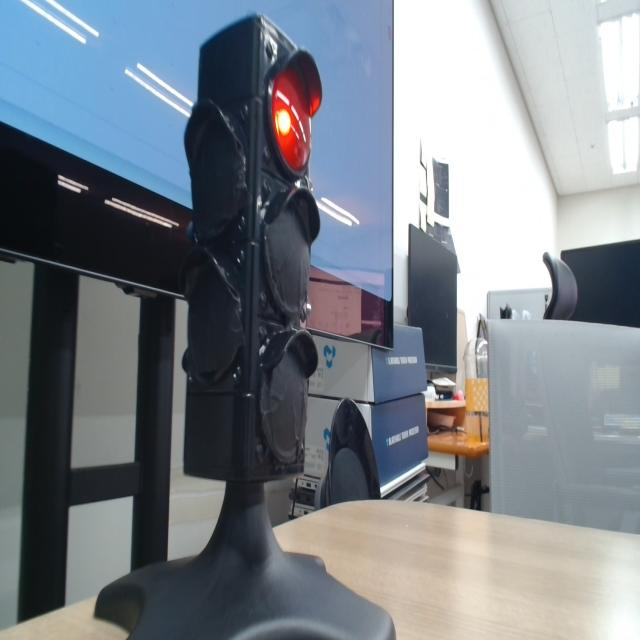red_light: (272, 67, 311, 172), (276, 109, 291, 135)
